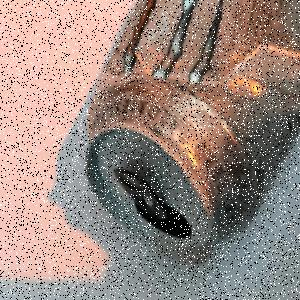Can: (83, 2, 300, 268)
